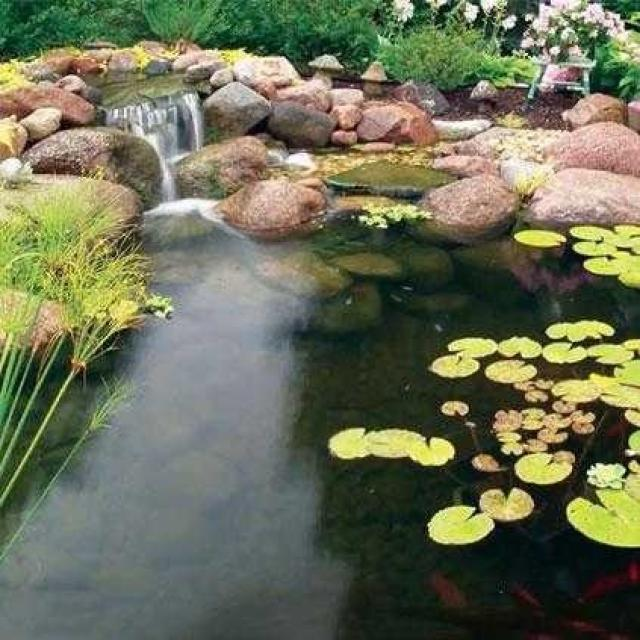Ponds: (1, 43, 638, 640)
